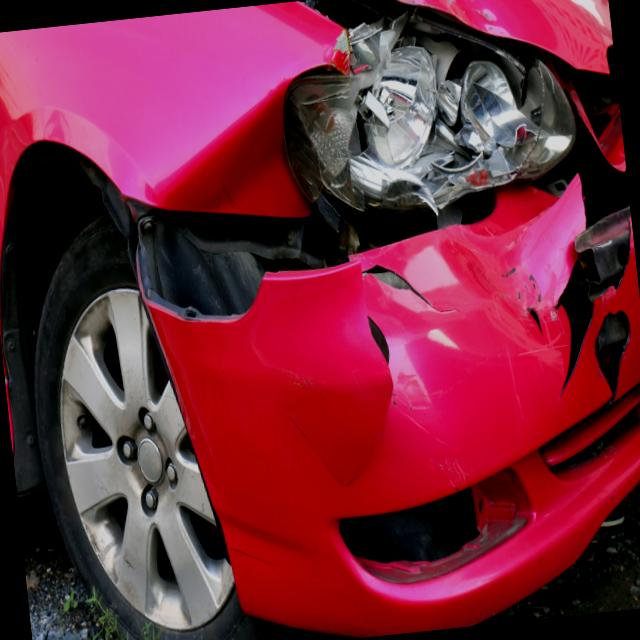Dechirure: (121, 175, 384, 336), (352, 251, 456, 392)
Phare abime: (258, 10, 598, 249)
Rayure: (492, 246, 551, 317)
